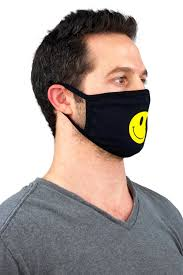cloth_mask: (77, 89, 155, 161)
